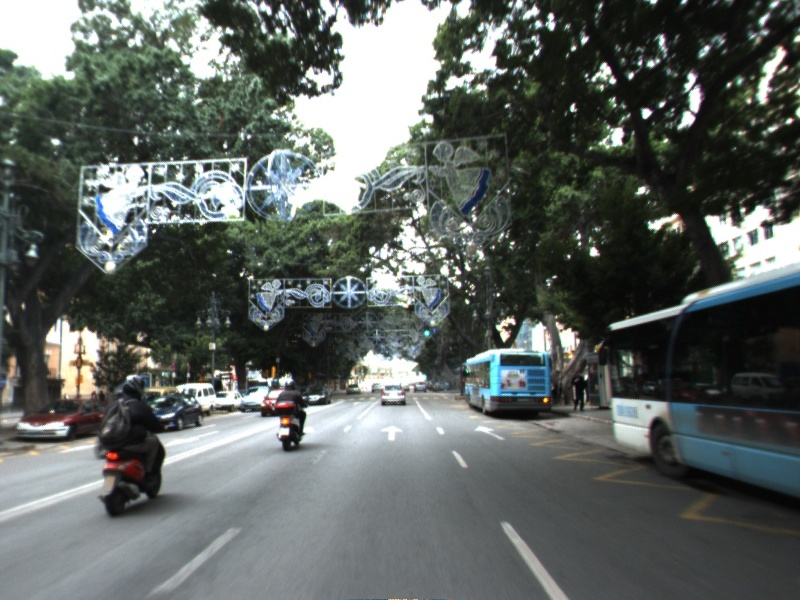STRAIGHT: (472, 423, 508, 442), (378, 423, 405, 442)
